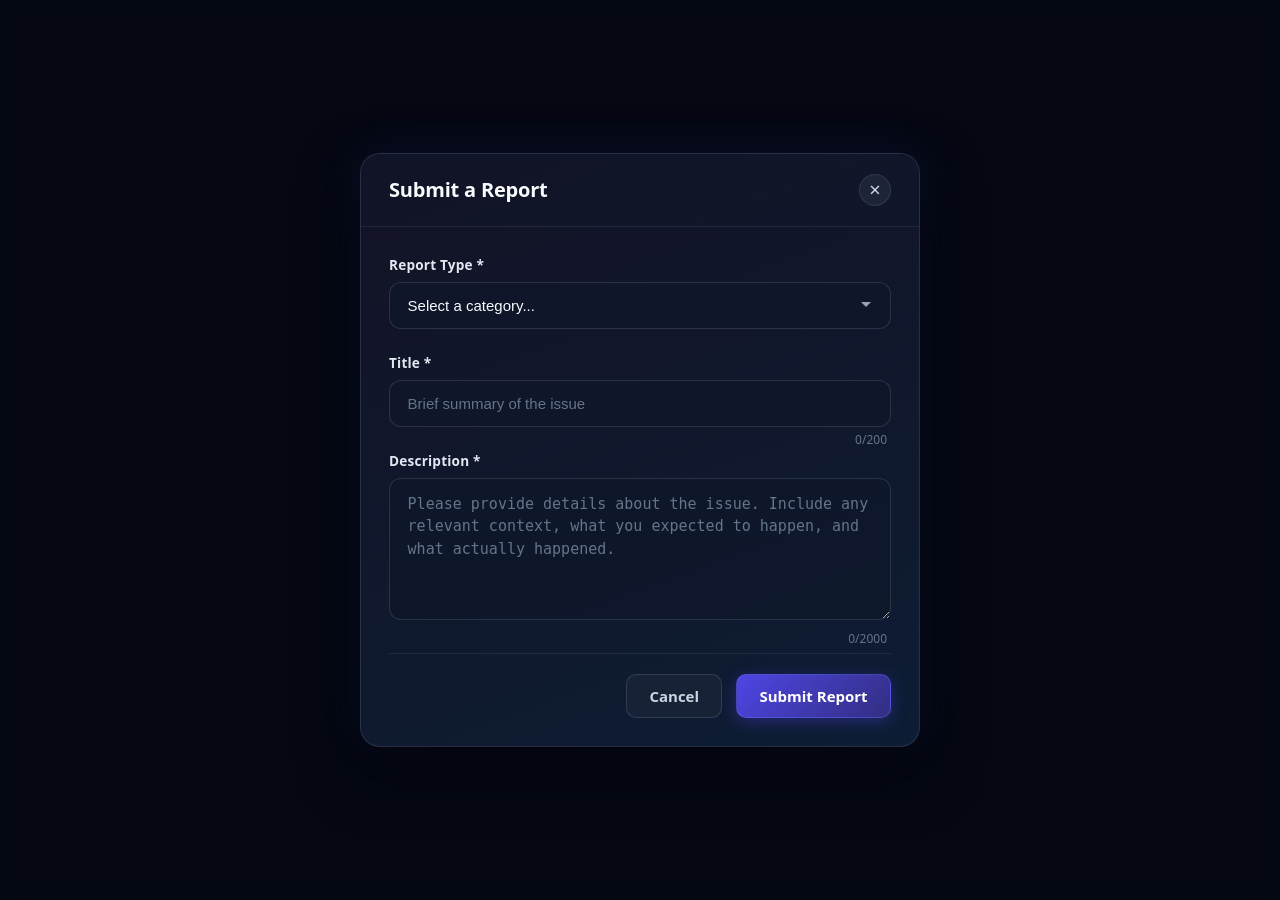
Test: ReportModal › Form Validation › shows error when title is too short
Select "Bug Report" in the dropdown labelled "Report Type *": (640, 306) [389,282,891,329]
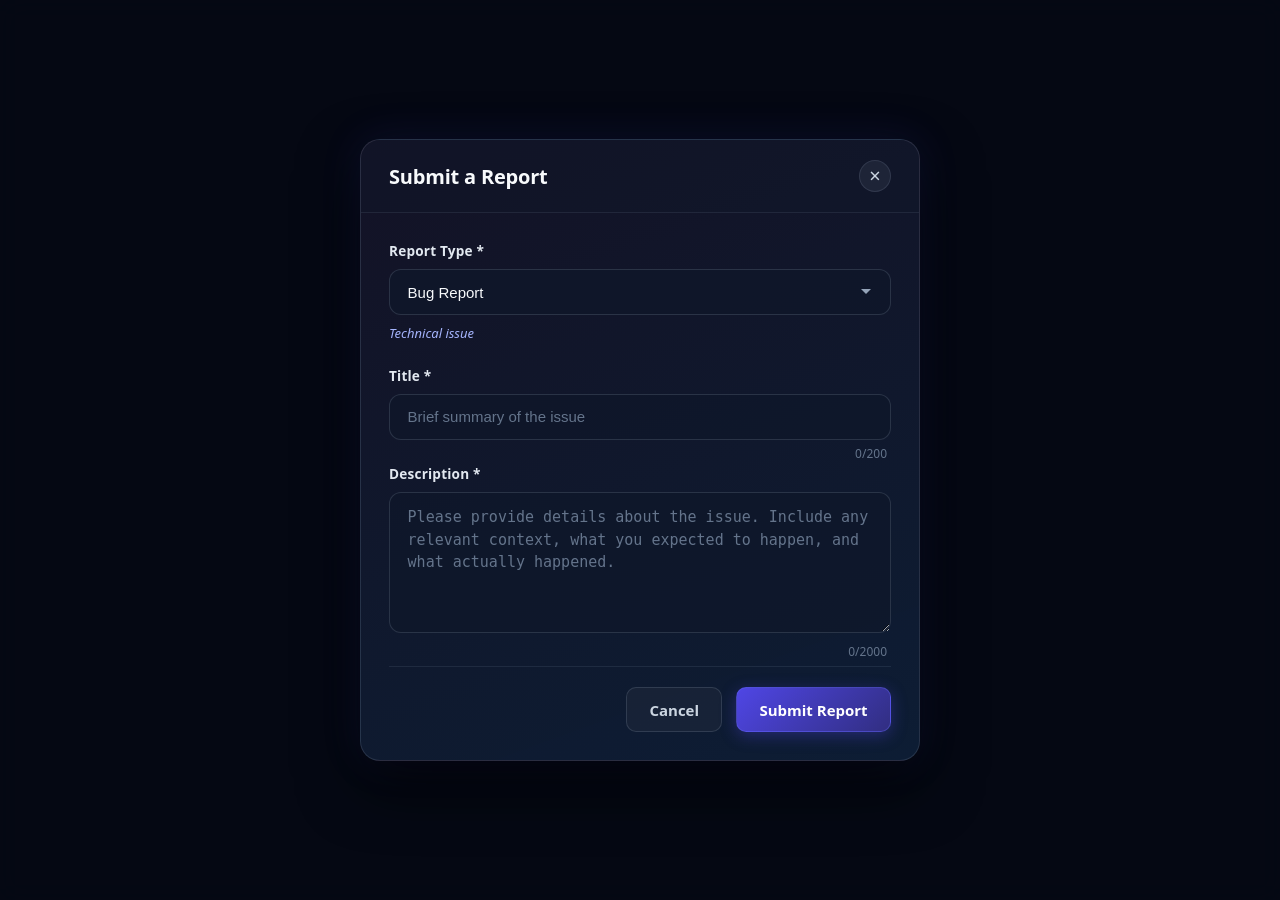
In the field labelled "Title *": (640, 417) [389,394,891,440], type "AB"
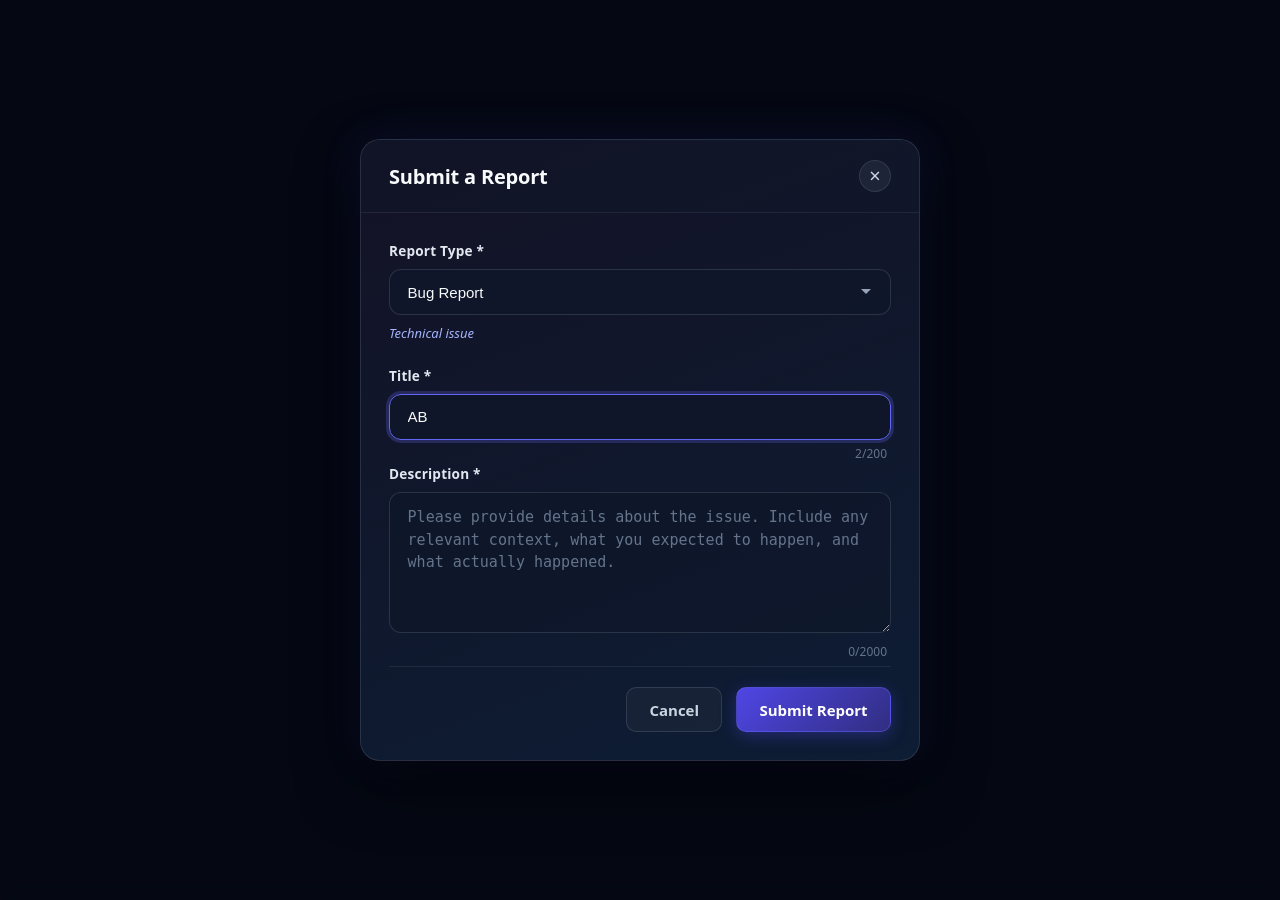
In the text box labelled "Description *": (640, 563) [389,492,891,634], type "This is a valid description for the report."
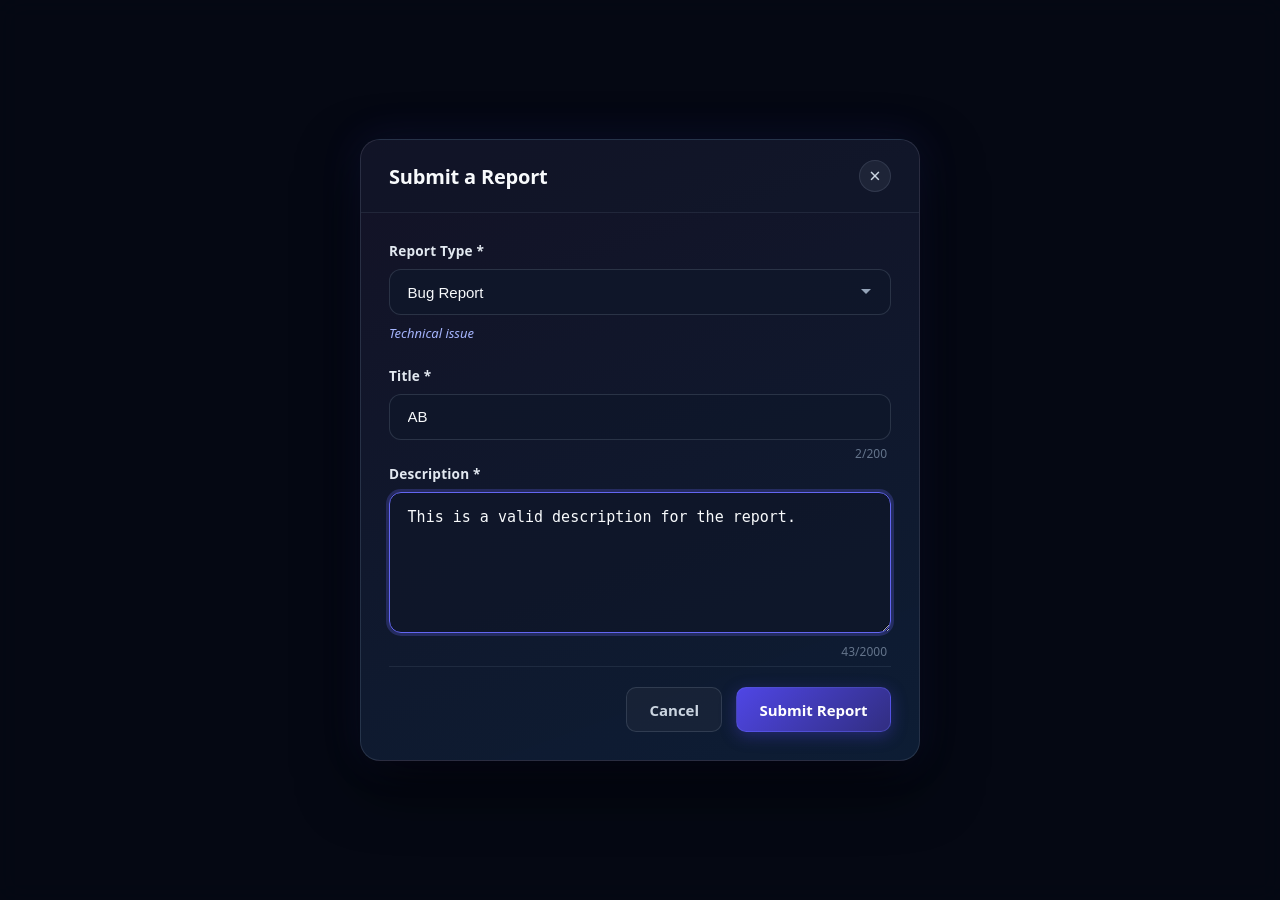
Click the button "Submit Report": click(814, 710) [736,687,891,732]
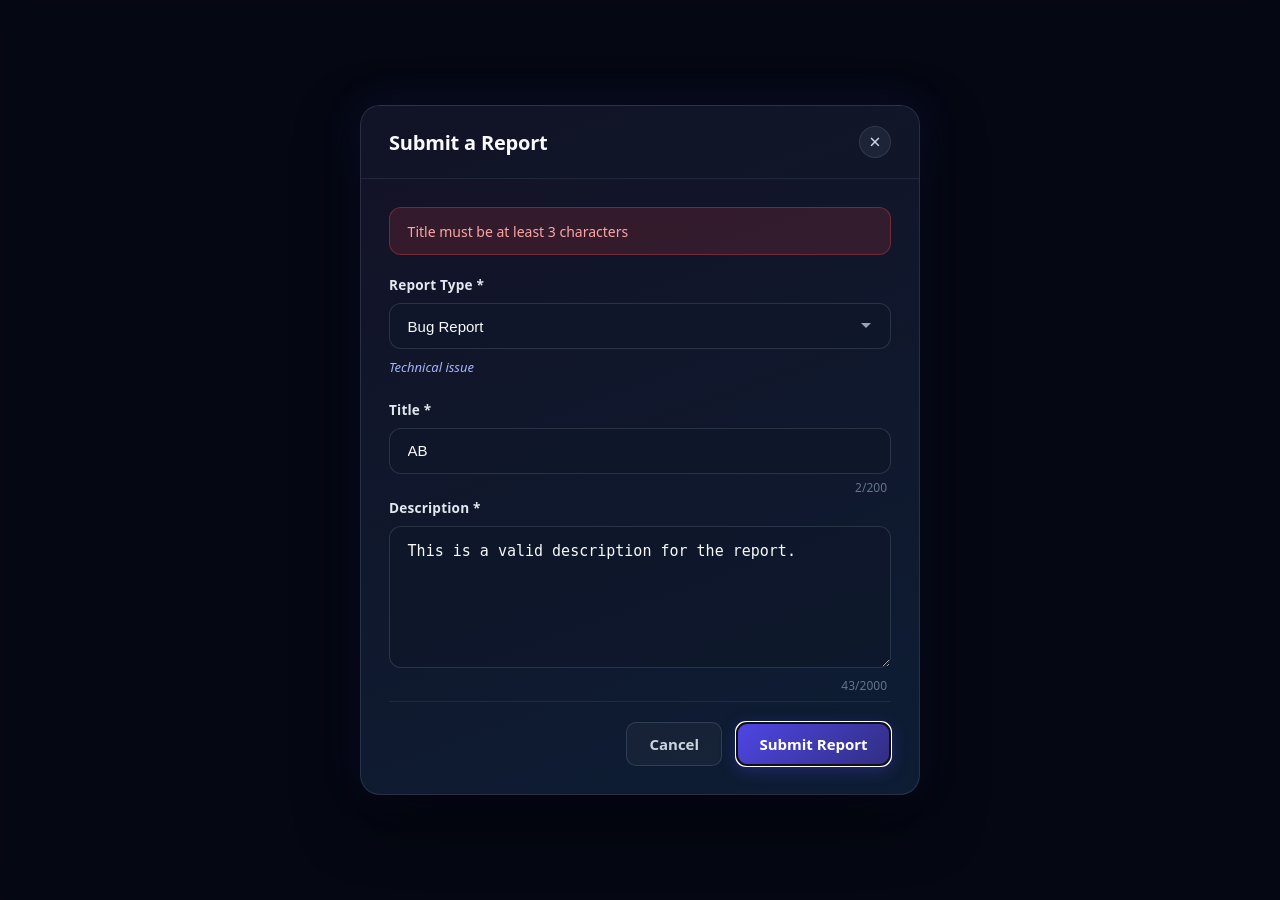
Result: the text "Title must be at least 3 characters" is shown at [389,207,891,255]
